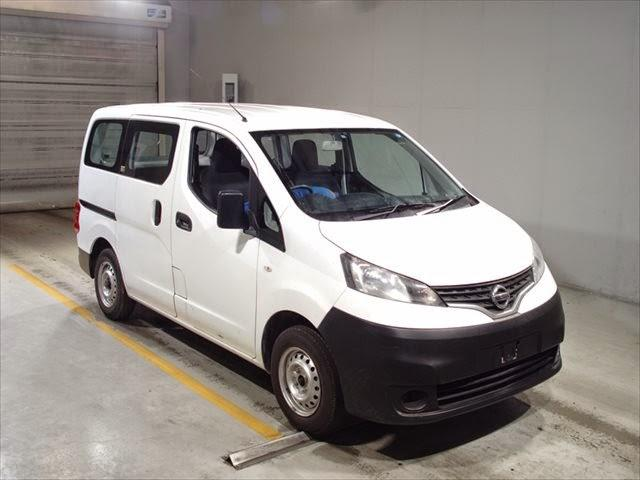van: (72, 101, 565, 435)
